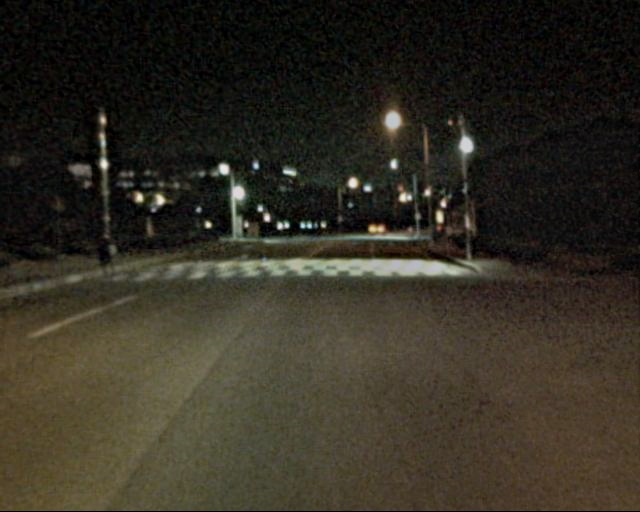person: (95, 223, 124, 280)
